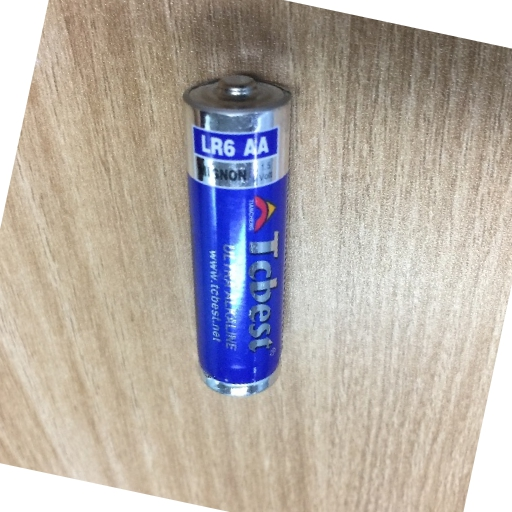Battery_0: (172, 64, 311, 410)
